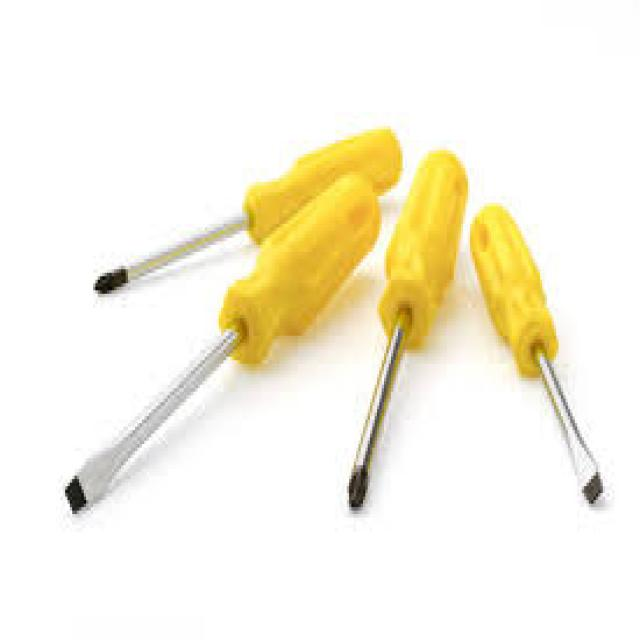screw driver: (468, 174, 627, 537), (340, 153, 454, 537)
